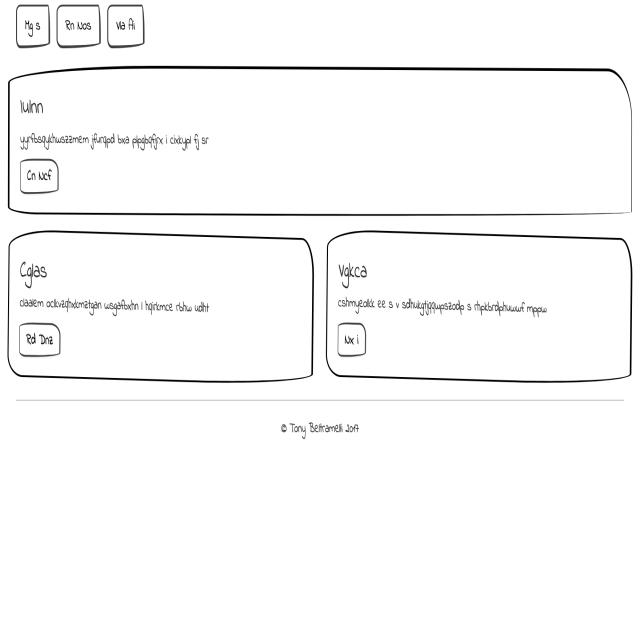Button: (12, 314, 66, 360), (333, 322, 375, 376), (18, 157, 65, 205)
Card: (5, 70, 637, 218), (321, 226, 634, 389), (6, 228, 312, 391)
Footer: (5, 396, 640, 640)
Heading 6: (333, 249, 377, 292), (12, 249, 60, 288), (13, 81, 50, 127)
Navigation Bar: (13, 0, 150, 56)
Paragraph: (9, 286, 244, 318), (15, 126, 224, 156), (329, 292, 560, 316)
